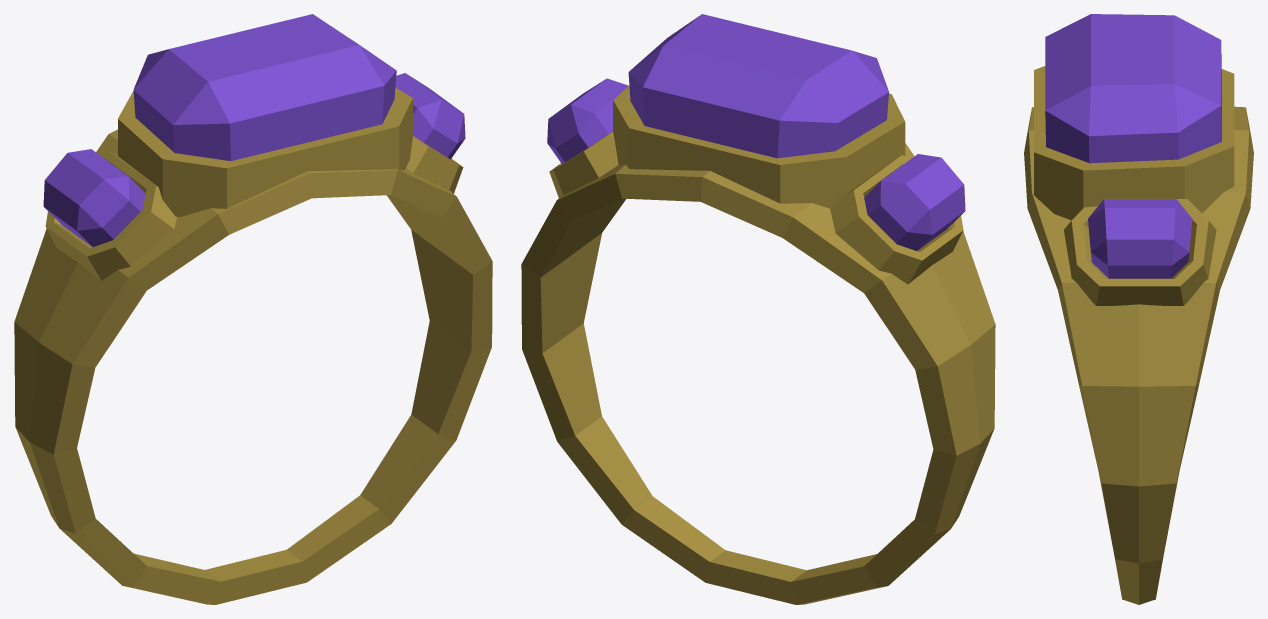
File: quaternius-rpg-items-ring-5.glb
The picture shows the model from 3 angles, left to right: view 1: azimuth 30°, elevation 25°; view 2: azimuth 150°, elevation 25°; view 3: azimuth 270°, elevation 25°; orthographic projection. The views are drawn at different scales.
Visible parts, largest first — view 1: Ring5; view 2: Ring5; view 3: Ring5.
Boxes of the visible parts, <box> form: Ring5: <box>14,14,492,604</box>; Ring5: <box>521,14,995,604</box>; Ring5: <box>1024,14,1253,604</box>.
Size of the model in its own units: 0.6619 by 0.7723 by 0.3013.
